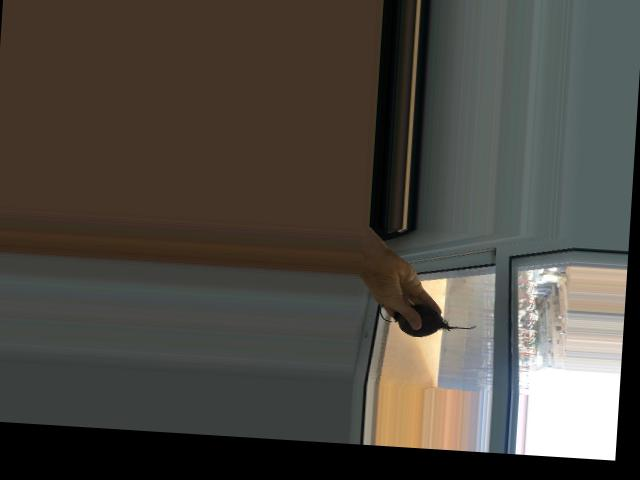beet: (378, 292, 478, 340)
